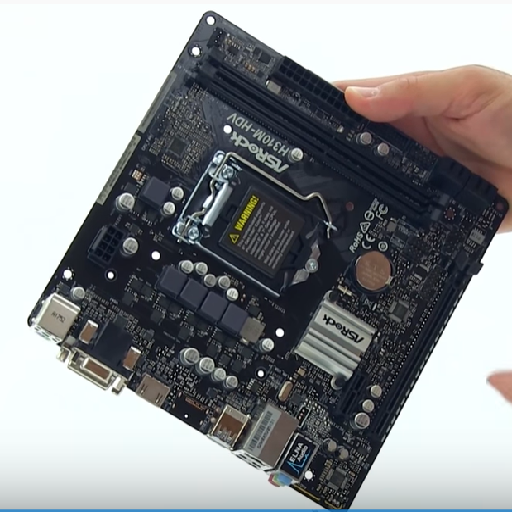CPU: (170, 148, 333, 298)
GPU: (366, 248, 482, 440)
MOTHERBOARD: (24, 10, 510, 512)
RAM: (194, 53, 443, 230)
